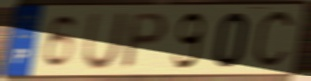0: (211, 11, 250, 71)
6: (41, 14, 79, 70)
9: (171, 10, 207, 71)
C: (250, 7, 297, 73)
P: (118, 10, 171, 72)
U: (80, 10, 129, 72)
